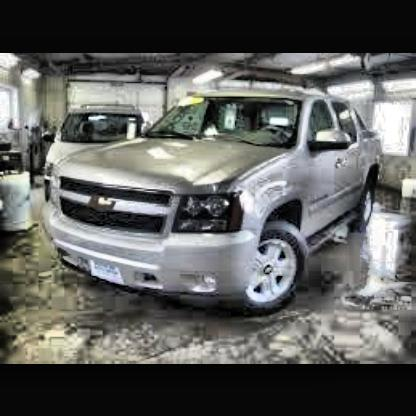Chevrolet Avalanche Crew Cab 2012: (41, 82, 387, 322)
